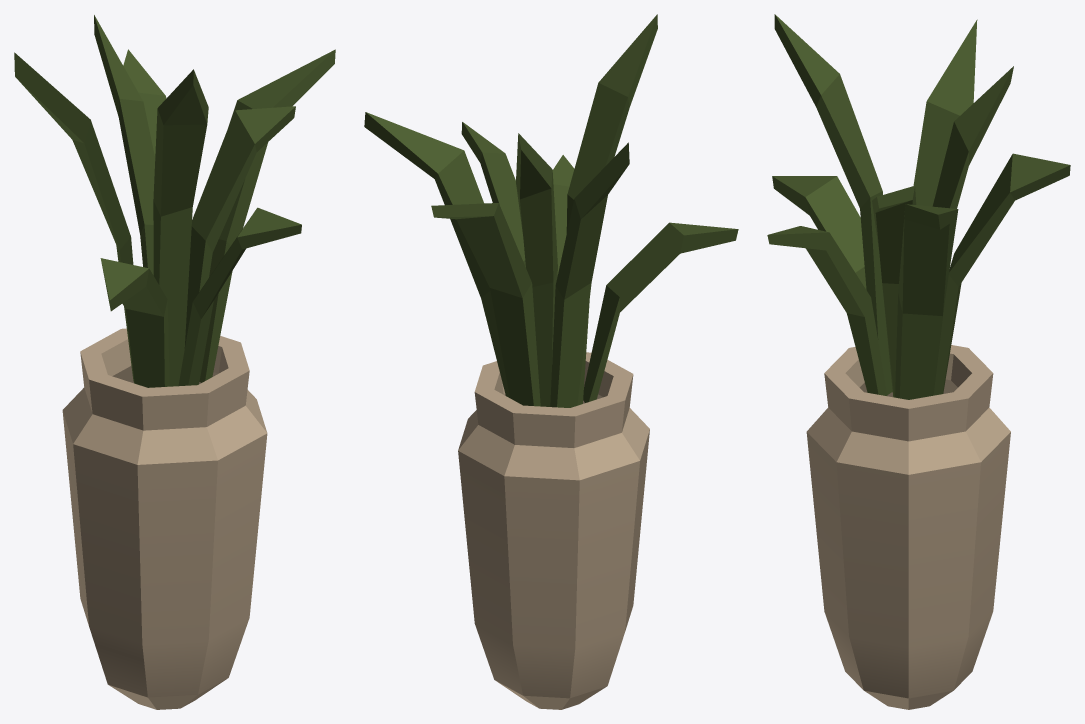
The model's file is SM_Prop_Plant_02.glb.
3 renders of one model, left to right at view 1: azimuth 30°, elevation 25°; view 2: azimuth 150°, elevation 25°; view 3: azimuth 270°, elevation 25°, orthographic. The views are drawn at different scales.
Parts seen in each view (by area): view 1: SM_Prop_Plant_02; view 2: SM_Prop_Plant_02; view 3: SM_Prop_Plant_02.
Part boxes in pixels (bbox=[...]): SM_Prop_Plant_02: bbox=[14, 15, 335, 709]; SM_Prop_Plant_02: bbox=[364, 14, 738, 709]; SM_Prop_Plant_02: bbox=[767, 14, 1070, 709].
Bounding box in the file's own units: 0.4961 × 1.05 × 0.433.
1 material, 1 textured.
